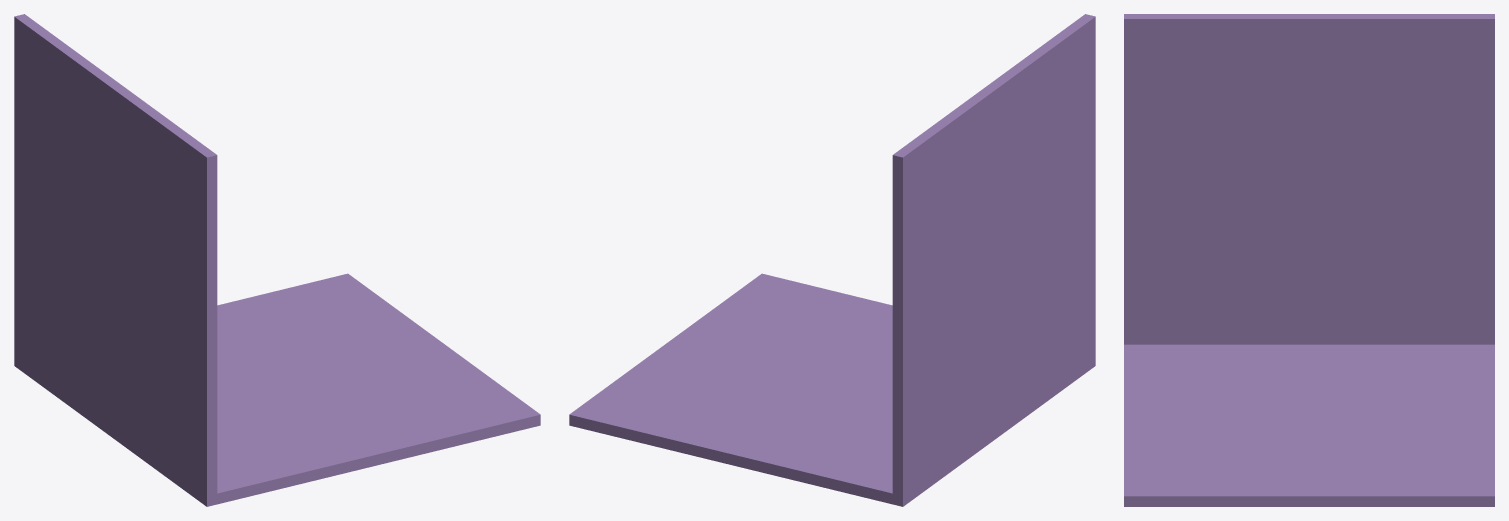
3 views of the same model, side by side, from view 1: azimuth 30°, elevation 25°; view 2: azimuth 150°, elevation 25°; view 3: azimuth 270°, elevation 25° (orthographic). The views are drawn at different scales.
Visible parts, largest first — view 1: 00-Local; view 2: 00-Local; view 3: 00-Local.
Boxes of the visible parts, <box> form: 00-Local: <box>14,14,540,506</box>; 00-Local: <box>569,14,1095,506</box>; 00-Local: <box>1124,14,1494,506</box>.
Size of the model in its own units: 32 by 32 by 32.
1 material, 1 textured.
